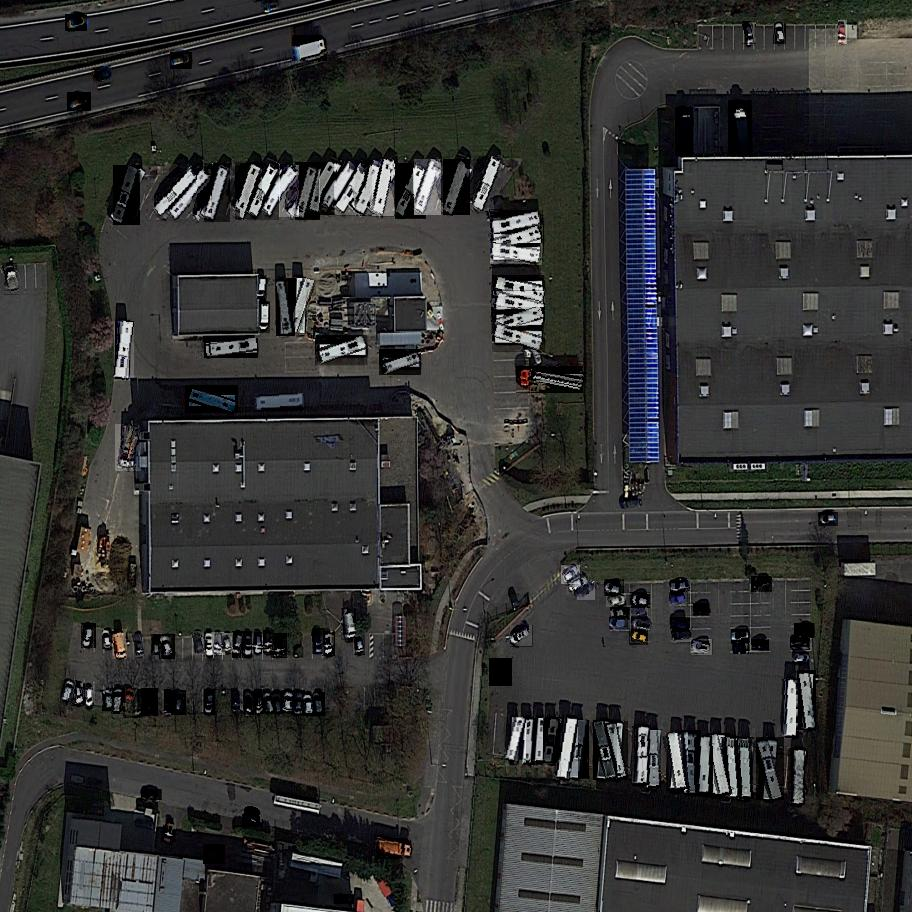large-vehicle: (151, 167, 199, 219), (299, 166, 348, 213), (258, 165, 301, 218), (168, 169, 215, 217), (334, 162, 374, 217), (319, 163, 359, 216), (245, 162, 280, 220), (395, 163, 429, 219), (516, 366, 584, 393), (756, 737, 784, 802), (113, 165, 143, 225), (354, 161, 386, 216), (473, 157, 504, 213), (315, 335, 369, 367), (287, 278, 317, 334), (443, 159, 473, 215), (491, 224, 545, 255), (413, 160, 443, 215), (492, 324, 546, 354), (706, 733, 731, 797), (554, 716, 579, 780), (235, 163, 263, 220), (492, 307, 546, 336), (295, 163, 322, 220), (185, 386, 238, 415), (593, 720, 618, 781), (205, 164, 231, 222), (491, 276, 546, 303), (492, 291, 545, 319), (606, 721, 629, 780), (729, 100, 753, 156), (372, 159, 395, 217), (491, 210, 544, 235), (490, 243, 544, 267), (115, 424, 142, 472), (114, 321, 135, 382), (667, 732, 688, 792), (570, 719, 590, 780), (683, 730, 702, 794), (275, 279, 295, 337), (797, 670, 816, 731), (204, 338, 259, 359), (504, 717, 528, 764), (380, 350, 423, 376), (784, 679, 799, 739), (676, 107, 694, 157), (698, 736, 713, 795), (726, 736, 740, 797), (635, 725, 649, 785), (544, 718, 562, 764), (256, 394, 304, 411), (374, 839, 414, 859), (791, 749, 805, 805), (740, 738, 753, 798), (648, 730, 661, 787), (534, 719, 548, 763), (523, 718, 535, 765)
small-vehicle: (290, 35, 329, 62), (488, 659, 516, 686), (118, 688, 139, 717), (509, 625, 536, 646), (2, 265, 20, 296), (566, 574, 592, 594), (141, 688, 159, 716), (67, 92, 92, 112), (130, 689, 146, 719), (203, 844, 227, 864), (341, 608, 356, 640), (112, 629, 127, 660), (242, 807, 265, 827), (65, 14, 89, 33), (161, 818, 178, 844), (576, 582, 598, 602), (630, 616, 653, 635), (60, 681, 78, 705), (159, 634, 176, 659), (561, 565, 582, 585), (93, 65, 115, 84), (691, 639, 714, 657), (171, 52, 194, 70), (291, 690, 306, 717), (271, 633, 287, 658), (81, 623, 96, 649), (191, 631, 206, 657), (171, 691, 186, 717), (259, 301, 271, 333), (270, 691, 286, 715), (233, 632, 247, 659), (629, 592, 651, 609), (112, 688, 126, 714), (212, 632, 227, 656), (742, 21, 757, 45), (71, 683, 86, 707), (605, 580, 626, 597), (751, 576, 773, 592), (671, 629, 694, 644), (262, 692, 277, 715), (629, 629, 649, 646), (312, 628, 325, 654), (132, 633, 146, 657), (257, 275, 270, 300), (204, 689, 216, 716), (818, 512, 839, 527), (794, 624, 816, 638), (670, 592, 689, 608), (606, 593, 626, 608), (731, 630, 752, 644), (263, 630, 275, 654), (283, 690, 295, 714), (151, 634, 164, 656), (322, 632, 334, 655), (774, 24, 787, 45), (314, 692, 325, 716), (353, 633, 365, 655), (670, 617, 690, 630), (222, 633, 234, 654), (103, 690, 115, 711), (671, 581, 691, 593), (254, 690, 264, 714), (205, 632, 214, 658), (792, 652, 810, 665), (304, 695, 315, 716), (232, 688, 241, 713), (103, 630, 114, 650), (244, 692, 254, 714), (244, 631, 252, 658), (142, 789, 161, 800), (838, 21, 847, 44), (752, 639, 768, 651), (733, 642, 749, 654), (694, 603, 709, 615), (611, 608, 629, 618), (85, 688, 94, 708), (632, 606, 648, 617), (610, 618, 627, 628), (164, 690, 171, 713), (255, 632, 262, 654), (334, 895, 353, 903), (790, 638, 809, 646)
